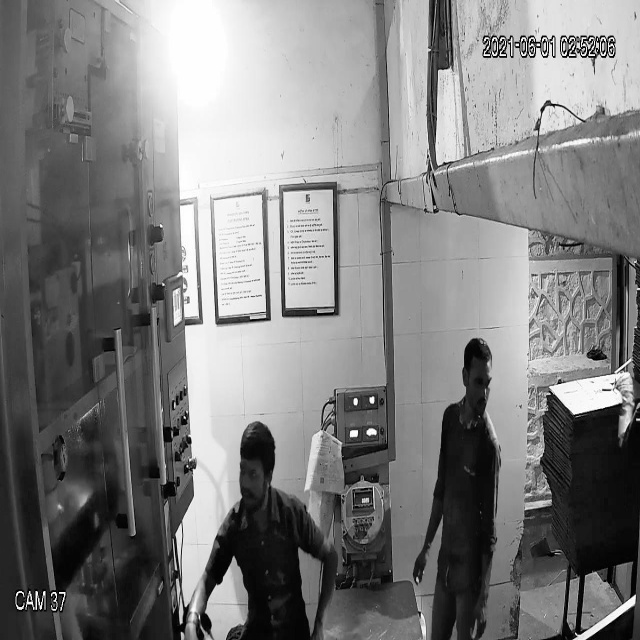Sin_gafas: (233, 454, 274, 491), (459, 364, 495, 396)
